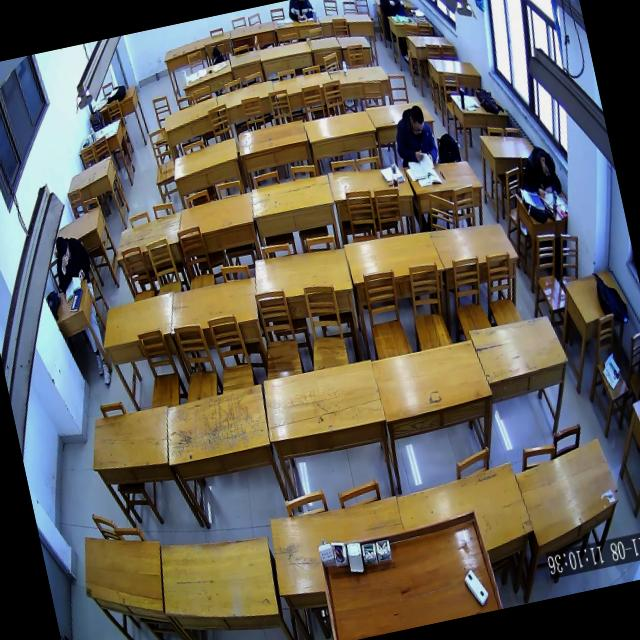down: (405, 100, 429, 138), (536, 149, 558, 180), (53, 232, 74, 264)
sit: (386, 98, 441, 173), (46, 226, 95, 295), (514, 139, 564, 202), (374, 0, 406, 20)
